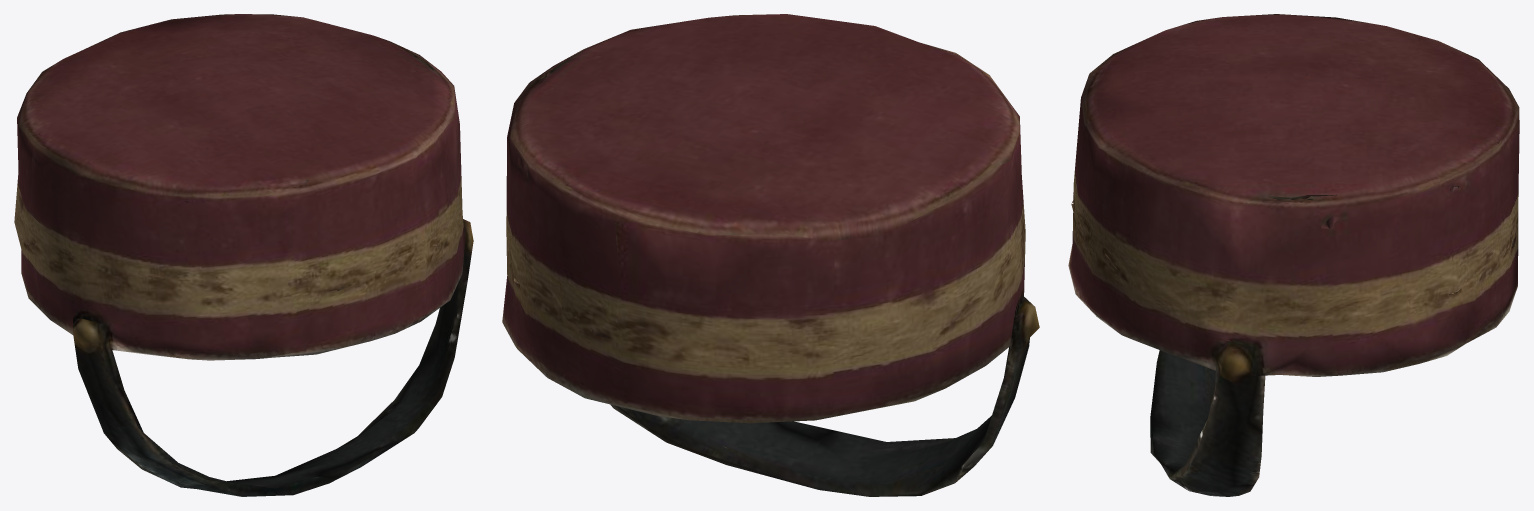
The model's file is cap.glb.
3 renders of one model, left to right at view 1: azimuth 30°, elevation 25°; view 2: azimuth 150°, elevation 25°; view 3: azimuth 270°, elevation 25°, orthographic. The views are drawn at different scales.
Visible parts, largest first — view 1: Mesh_0; view 2: Mesh_0; view 3: Mesh_0.
Part boxes in pixels (x1,y1,x2,y2): Mesh_0: (14,14,473,496); Mesh_0: (502,14,1039,496); Mesh_0: (1068,14,1519,496).
Bounding box in the file's own units: 0.1619 × 0.14 × 0.1536.
Materials: 1 (1 with a texture image).
